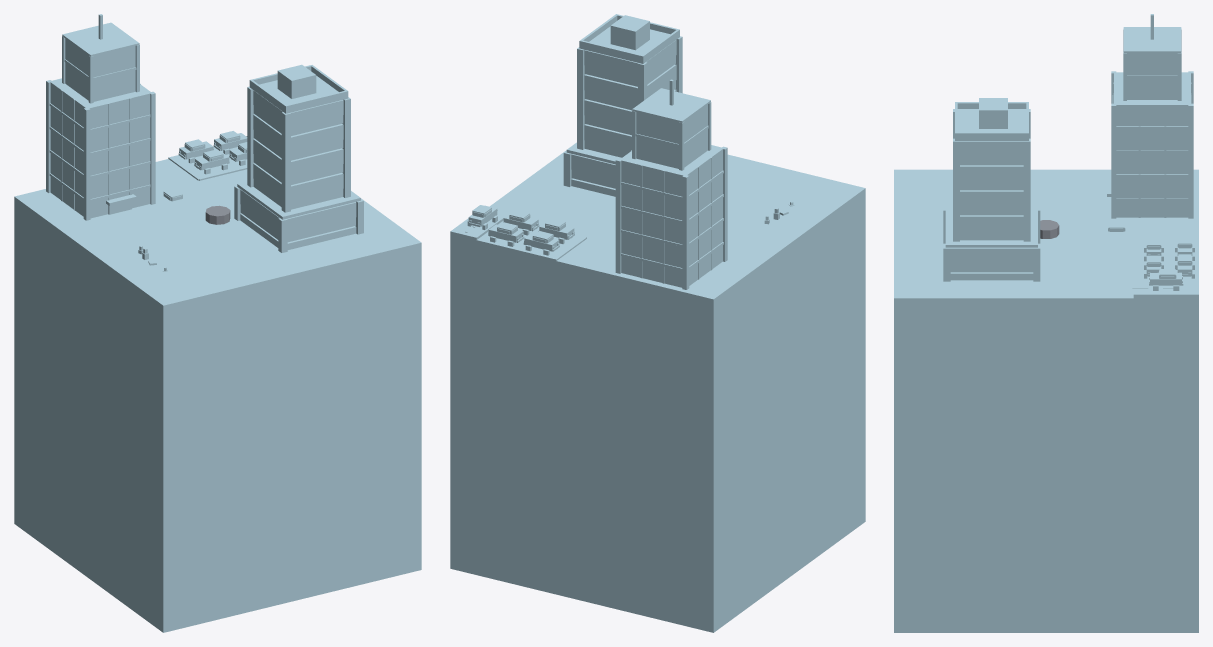
Rendered from block_8_undergroundtanks_100.glb.
3 renders of one model, left to right at view 1: azimuth 30°, elevation 25°; view 2: azimuth 150°, elevation 25°; view 3: azimuth 270°, elevation 25°, orthographic. The views are drawn at different scales.
Visible parts, largest first — view 1: Patch_UpperLeft_b05_UT, Commercial_UpperLeft_UT, Green_UpperLeft_j5_UT, Roads_UpperLeft_b05_UT, ULPark_Car02.001_UT; view 2: Patch_UpperLeft_b05_UT, Commercial_UpperLeft_UT, Green_UpperLeft_j5_UT, Roads_UpperLeft_b05_UT, ULPark_Car00_UT, ULPark_Car00.001_UT; view 3: Patch_UpperLeft_b05_UT, Commercial_UpperLeft_UT, Roads_UpperLeft_b05_UT, Green_UpperLeft_j5_UT, ULCar_013_UT.
Part boxes in pixels (box(x1,y1,x2,y2)): Patch_UpperLeft_b05_UT: box(14, 159, 421, 632); Commercial_UpperLeft_UT: box(46, 14, 363, 252); Green_UpperLeft_j5_UT: box(14, 147, 420, 337); Roads_UpperLeft_b05_UT: box(14, 136, 421, 336); ULPark_Car02.001_UT: box(194, 149, 229, 174); Patch_UpperLeft_b05_UT: box(450, 150, 865, 632); Commercial_UpperLeft_UT: box(563, 14, 727, 289); Green_UpperLeft_j5_UT: box(450, 220, 804, 328); Roads_UpperLeft_b05_UT: box(450, 211, 865, 327); ULPark_Car00_UT: box(488, 222, 524, 246); ULPark_Car00.001_UT: box(523, 231, 559, 255); Patch_UpperLeft_b05_UT: box(894, 169, 1198, 632); Commercial_UpperLeft_UT: box(943, 14, 1193, 281); Roads_UpperLeft_b05_UT: box(894, 281, 1198, 341); Green_UpperLeft_j5_UT: box(894, 245, 1198, 341); ULCar_013_UT: box(1149, 269, 1183, 290).
Bounding box in the file's own units: 9.5 × 17.92 × 9.5.
